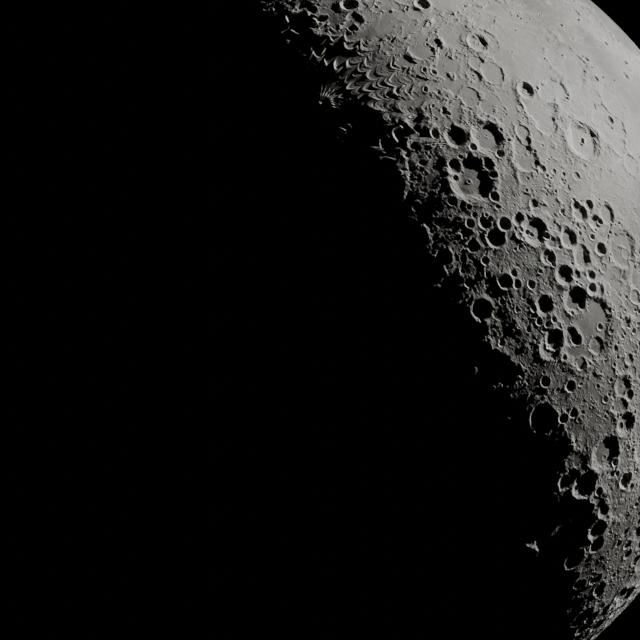crater: (448, 153, 496, 208), (564, 122, 601, 161), (589, 430, 621, 475), (566, 466, 602, 503), (526, 403, 564, 438), (559, 541, 589, 575), (471, 123, 505, 151), (562, 284, 588, 319), (522, 217, 550, 249), (441, 123, 474, 149), (468, 296, 496, 321), (514, 78, 538, 104), (543, 329, 566, 356), (565, 198, 589, 223), (616, 373, 634, 405), (585, 336, 609, 360), (570, 245, 594, 268), (465, 35, 490, 53), (617, 313, 635, 338), (538, 291, 554, 316), (557, 266, 575, 288), (494, 275, 516, 293), (616, 414, 634, 436), (590, 581, 608, 603), (562, 377, 580, 398), (596, 505, 614, 525), (588, 534, 604, 556), (621, 468, 635, 491), (410, 0, 432, 14), (490, 231, 506, 250), (564, 228, 578, 248), (538, 374, 554, 391), (500, 212, 512, 230), (543, 252, 556, 268), (594, 244, 611, 255), (515, 212, 529, 223), (340, 5, 365, 11), (533, 199, 540, 211)
